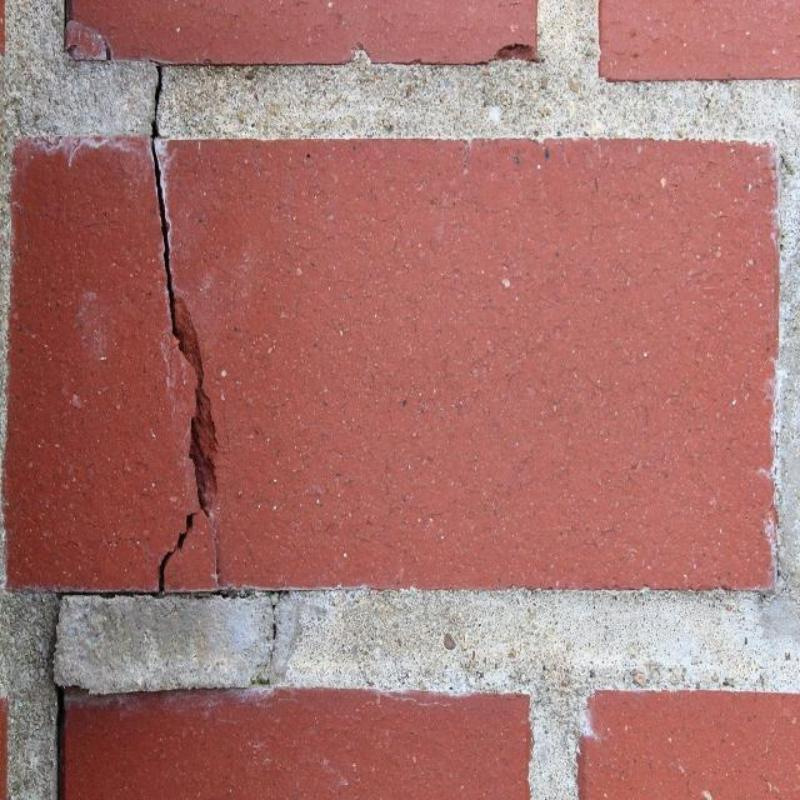pothole: (49, 590, 292, 799), (151, 62, 227, 593)
